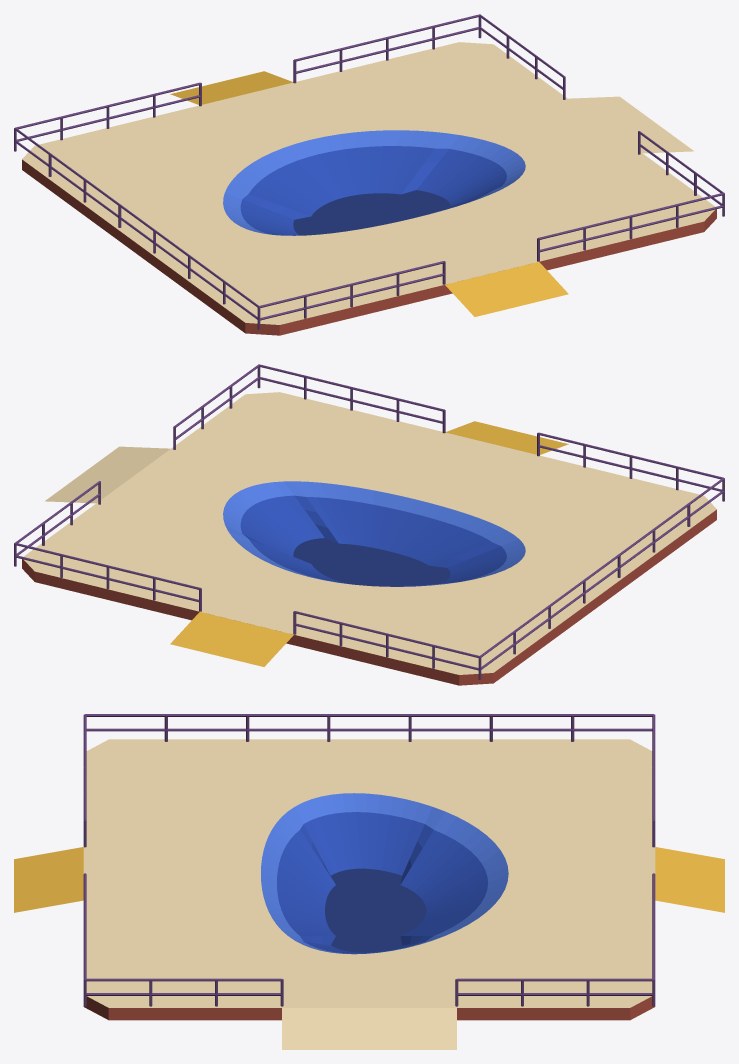
File: skate.glb
The picture shows the model from 3 angles, top to bottom: view 1: azimuth 30°, elevation 25°; view 2: azimuth 150°, elevation 25°; view 3: azimuth 270°, elevation 25°; orthographic projection. The views are drawn at different scales.
Parts seen in each view (by area): view 1: skate; view 2: skate; view 3: skate.
Boxes of the visible parts, bbox=[...] form: skate: bbox=[14, 14, 724, 335]; skate: bbox=[14, 364, 724, 685]; skate: bbox=[14, 714, 724, 1049].
Bounding box in the file's own units: 22.2 × 2.22 × 22.38.
